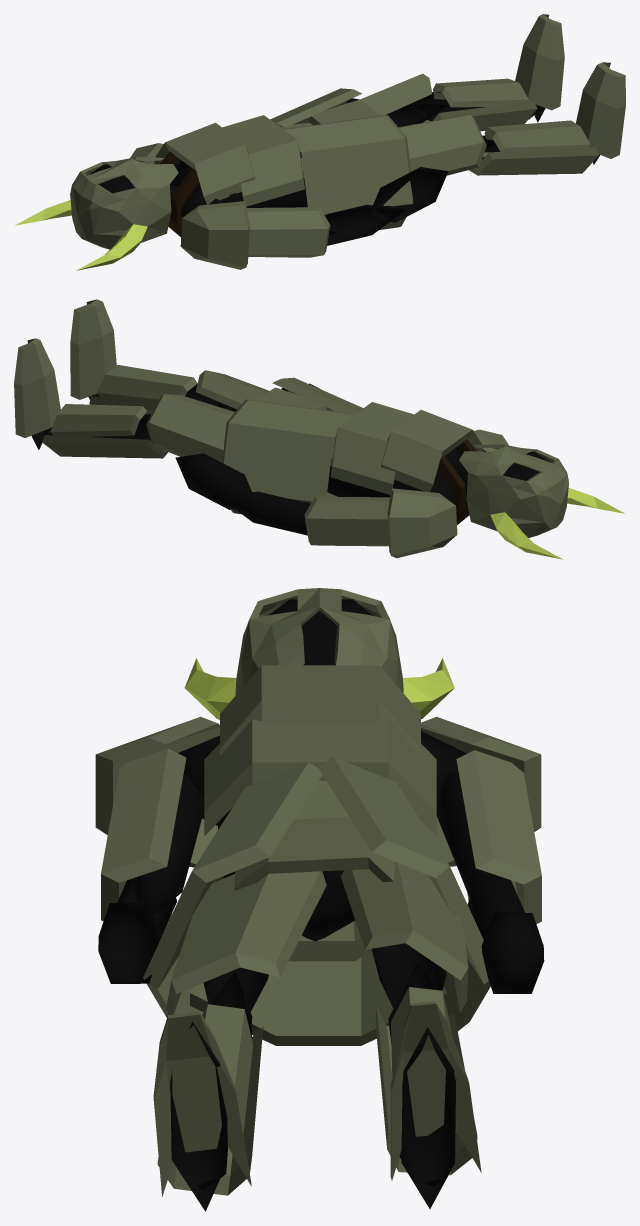
Rendered from knightStanding.obj.
3 views of the same model, one above another, from view 1: azimuth 30°, elevation 25°; view 2: azimuth 150°, elevation 25°; view 3: azimuth 270°, elevation 25° (orthographic). The views are drawn at different scales.
Parts seen in each view (by area): view 1: Plane; view 2: Plane; view 3: Plane.
Part boxes in pixels (bbox=[...]): Plane: bbox=[15, 14, 625, 270]; Plane: bbox=[14, 299, 624, 559]; Plane: bbox=[95, 588, 544, 1211].
Size of the model in its own units: 1.31 by 0.3066 by 0.4703.
